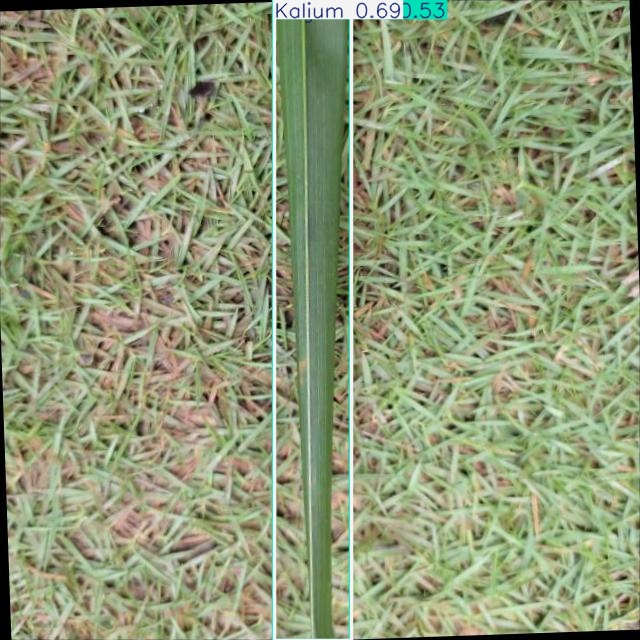Kalium: (274, 0, 351, 640)
Megnesium: (273, 1, 350, 640)
